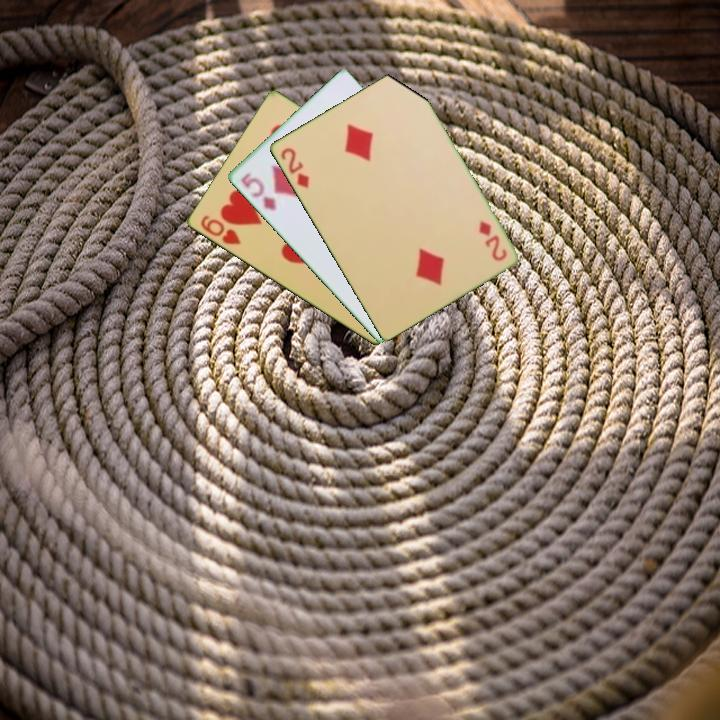2d: (277, 144, 312, 191), (475, 217, 509, 264)
5d: (237, 168, 279, 214)
6h: (196, 212, 243, 248)
